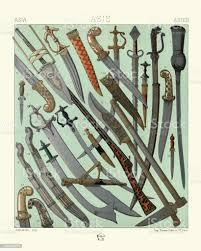knives: (73, 25, 168, 129)
